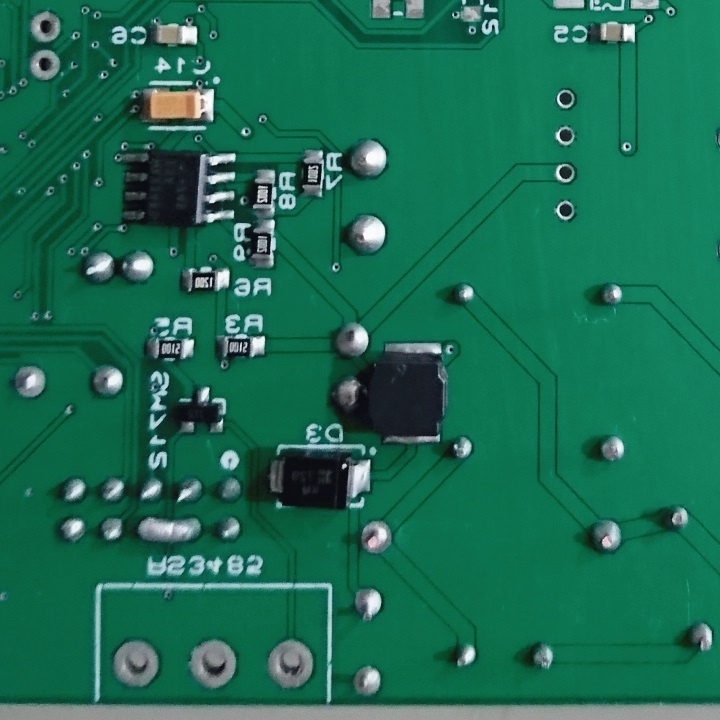F: (108, 638, 169, 690), (186, 635, 241, 692), (266, 632, 314, 692), (27, 46, 64, 88), (10, 362, 49, 400), (356, 519, 395, 557), (28, 7, 64, 46), (351, 585, 384, 624), (350, 660, 382, 698), (553, 196, 576, 224), (554, 159, 576, 188), (554, 123, 578, 149), (555, 86, 575, 112)
P: (133, 514, 204, 546)
